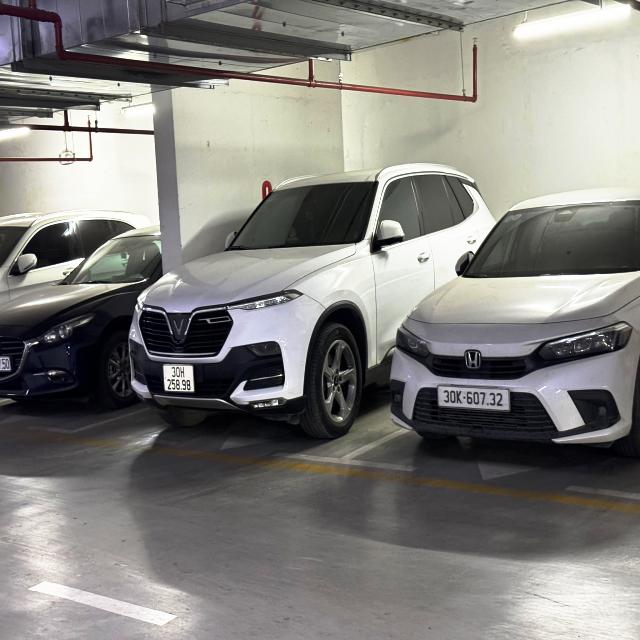license_plate: (439, 388, 510, 411), (165, 365, 195, 393)
